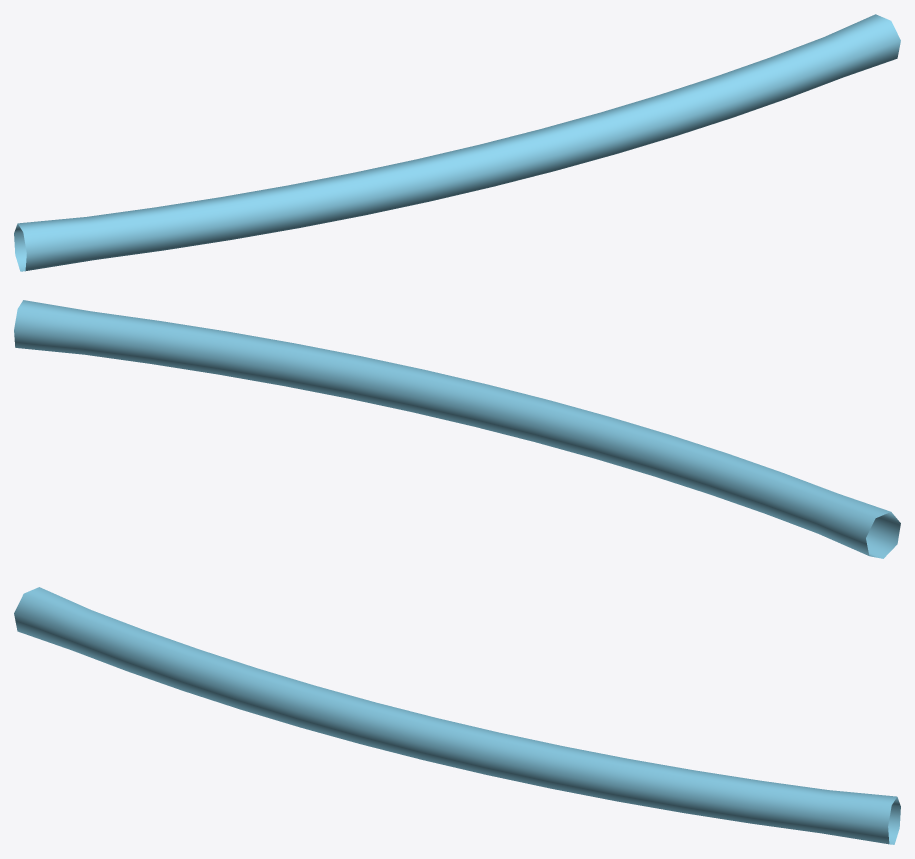
The model's file is Norris_Maze_Blue_Wire_C2.fbx.
3 views of the same model, one above another, from view 1: azimuth 30°, elevation 25°; view 2: azimuth 150°, elevation 25°; view 3: azimuth 330°, elevation 25° (orthographic).
Visible parts, largest first — view 1: WireCurve5; view 2: WireCurve5; view 3: WireCurve5.
Boxes of the visible parts, box(x1,y1,x2,y2) form: WireCurve5: box(14, 14, 900, 271); WireCurve5: box(14, 300, 900, 558); WireCurve5: box(14, 587, 900, 844).
Bounding box in the file's own units: 18.96 × 0.9116 × 2.08.
